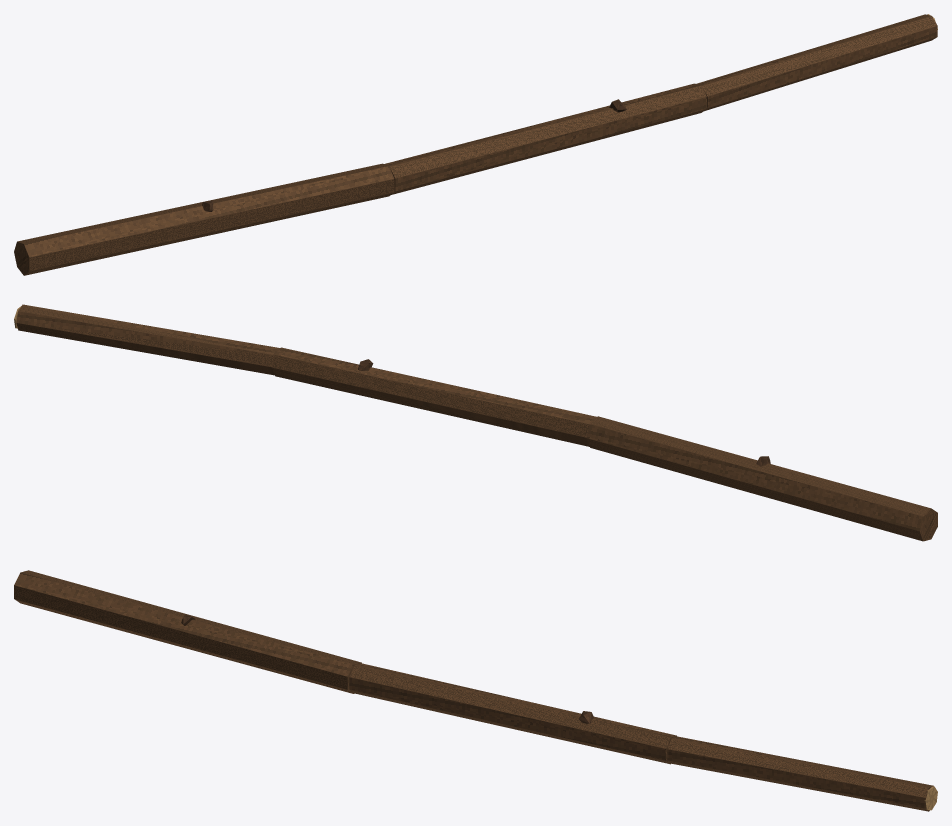
Rendered from stick_common.glb.
The picture shows the model from 3 angles, top to bottom: view 1: azimuth 30°, elevation 25°; view 2: azimuth 150°, elevation 25°; view 3: azimuth 330°, elevation 25°; orthographic projection. The views are drawn at different scales.
Visible parts, largest first — view 1: block_seg0, block_seg1, block_seg2; view 2: block_seg0, block_seg1, block_seg2; view 3: block_seg0, block_seg1, block_seg2.
Boxes of the visible parts, x1,y1,x2,y2 form: block_seg0: (14, 163, 394, 275); block_seg1: (384, 83, 706, 194); block_seg2: (696, 14, 937, 111); block_seg0: (587, 416, 937, 541); block_seg1: (272, 347, 596, 446); block_seg2: (16, 304, 280, 375); block_seg0: (14, 570, 361, 693); block_seg1: (349, 663, 676, 764); block_seg2: (667, 736, 933, 811).
Bounding box in the file's own units: 1.3 × 0.0481 × 0.0938.
1 material, 1 textured.
